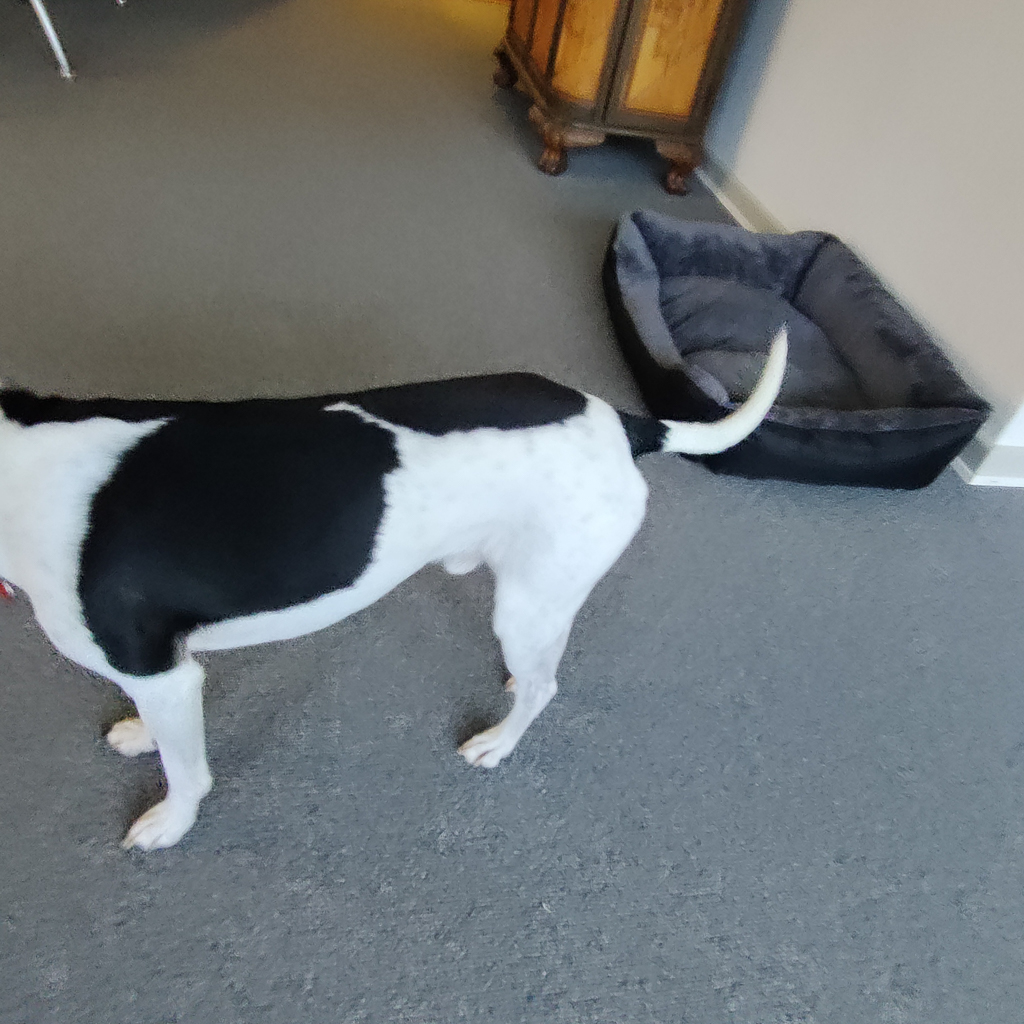Dog: (0, 307, 810, 870)
